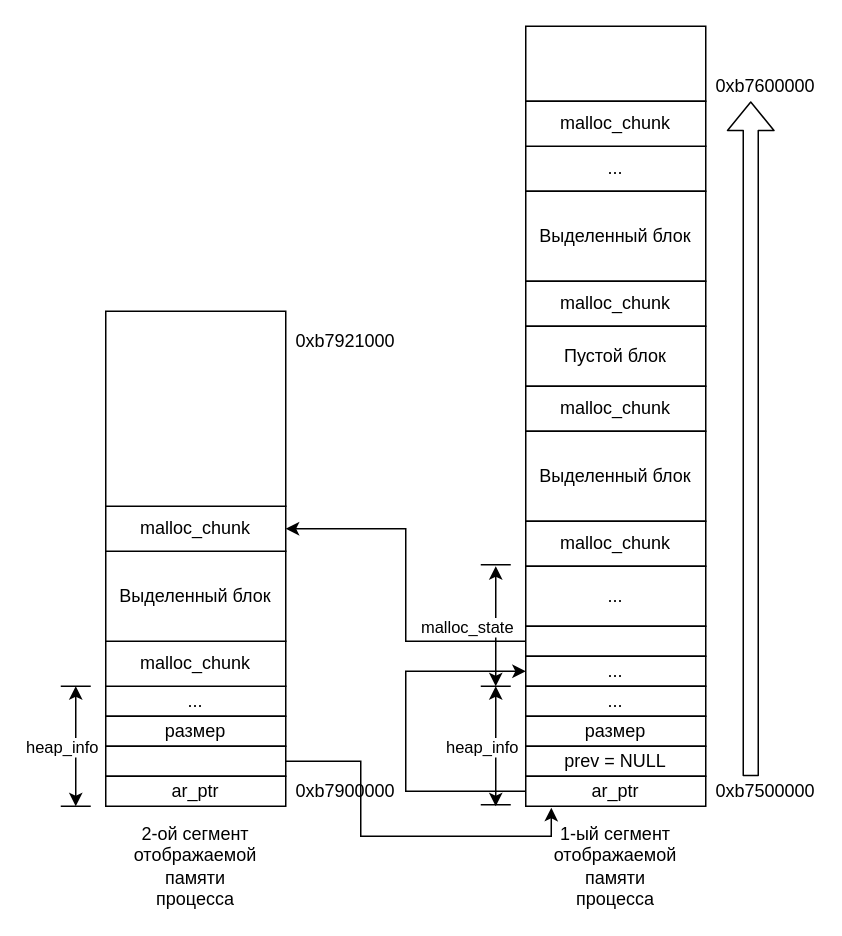
The diagram is 842 pixels wide and 936 high, and some of its shapes have lost their labels. The centre of each missing label's shape, as x and y in pixels:
"prev" goes at (x=195, y=760).
"верх" goes at (x=615, y=640).
"Верхний блок" goes at (x=195, y=408).
"Старый верхний блок становится свободным" goes at (x=615, y=63).
